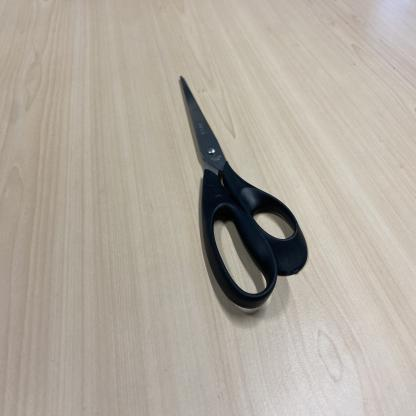scissors: (176, 73, 309, 311)
